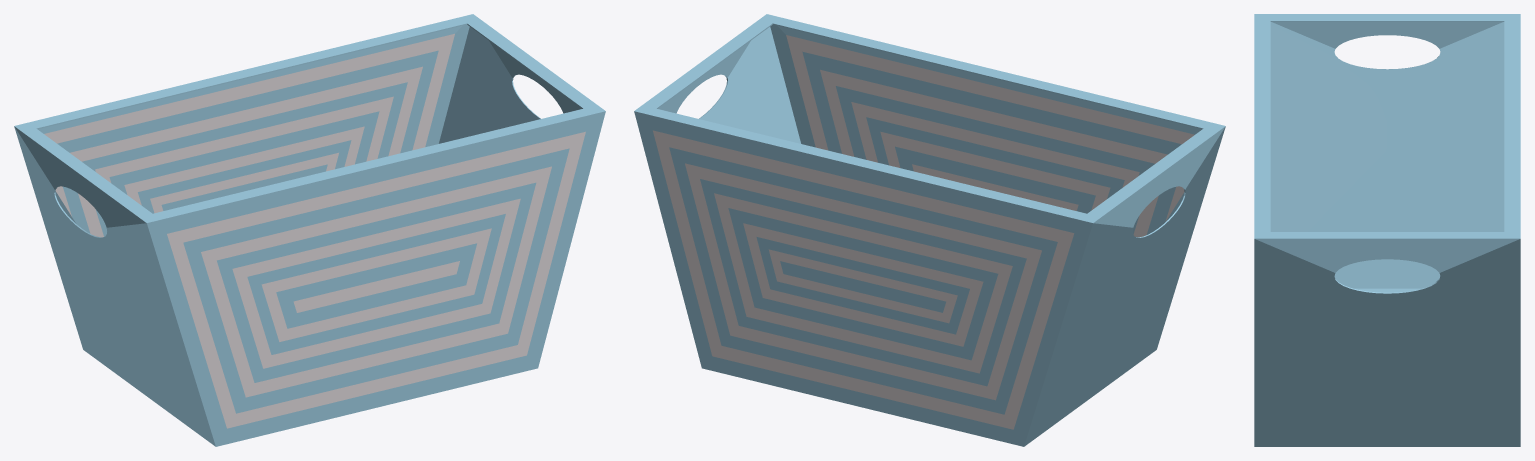
The model's file is Laundry-basket.fbx.
3 renders of one model, left to right at view 1: azimuth 30°, elevation 25°; view 2: azimuth 150°, elevation 25°; view 3: azimuth 270°, elevation 25°, orthographic.
Visible parts, largest first — view 1: Cube; view 2: Cube; view 3: Cube.
Boxes of the visible parts, left/top/right/bottom form: Cube: left=14, top=14, right=605, bottom=446; Cube: left=634, top=14, right=1225, bottom=446; Cube: left=1254, top=14, right=1520, bottom=446.
Bounding box in the file's own units: 399 × 200 × 200.
